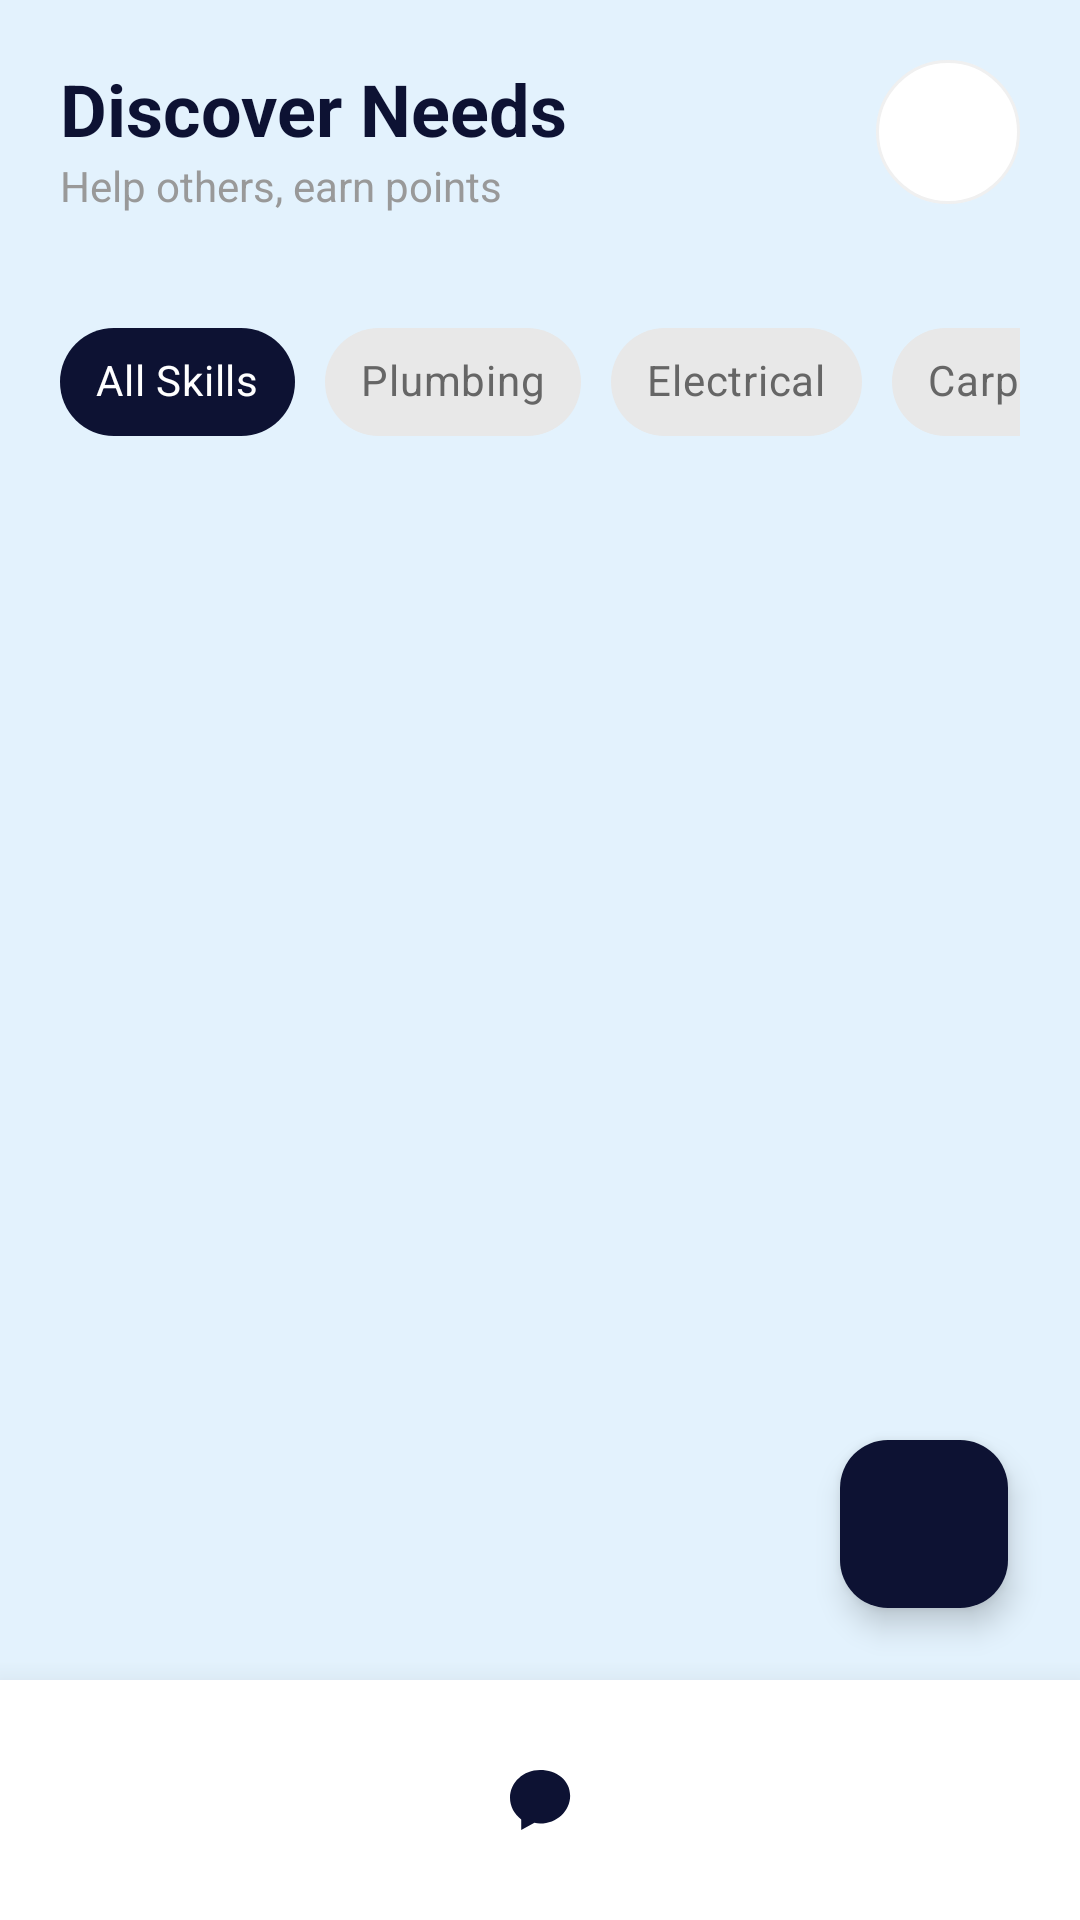

Where icons sit on this 1080x1920 app screen, as {"x1": x1, "y1": y1, "x2": x2, "y2": y2}:
Chat: {"x1": 510, "y1": 1770, "x2": 571, "y2": 1830}
